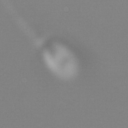normal: (2, 1, 44, 44)
